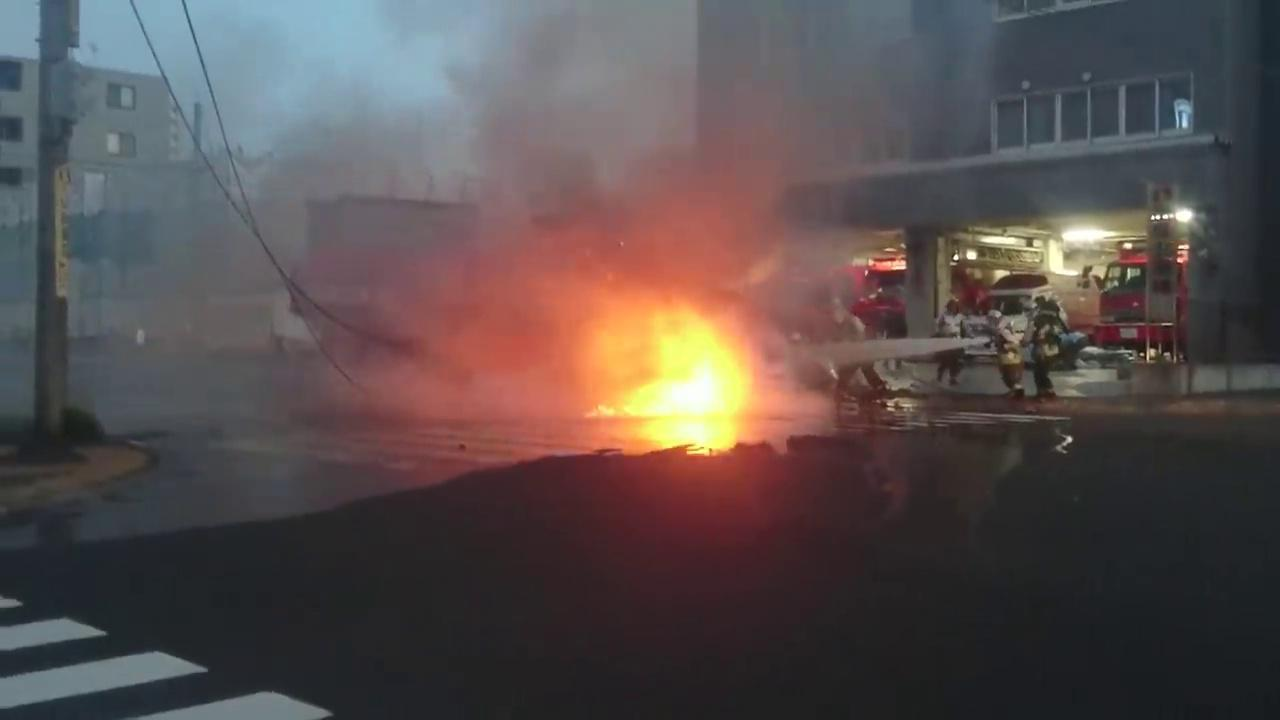Fire: (585, 306, 754, 421)
